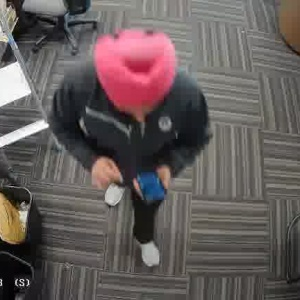person: (54, 29, 201, 273)
